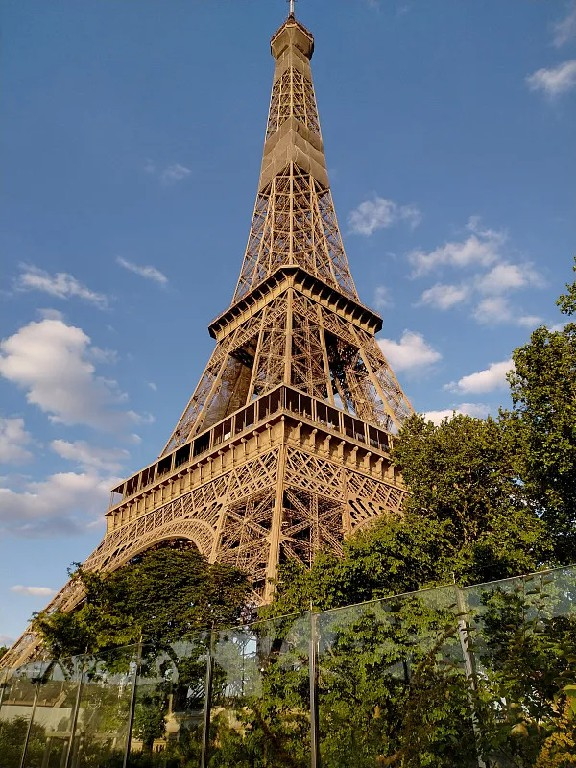Eiffel: (1, 2, 430, 693)
